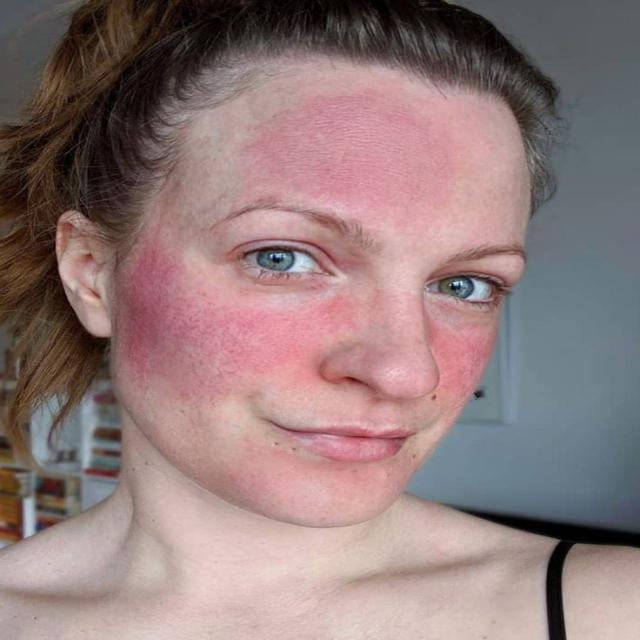Rosacea: (127, 267, 277, 394), (273, 97, 428, 210)
